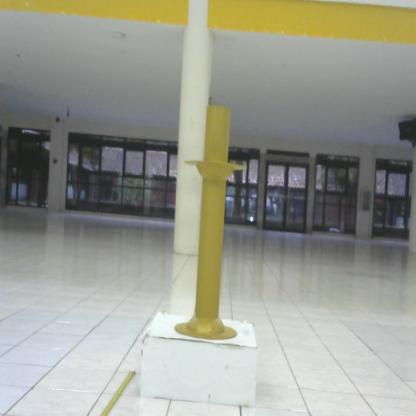pole: (172, 101, 249, 345)
